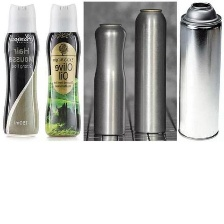aerosol_cans: (177, 0, 222, 142), (44, 1, 83, 140), (1, 2, 40, 137), (130, 5, 170, 135), (91, 20, 128, 138)
